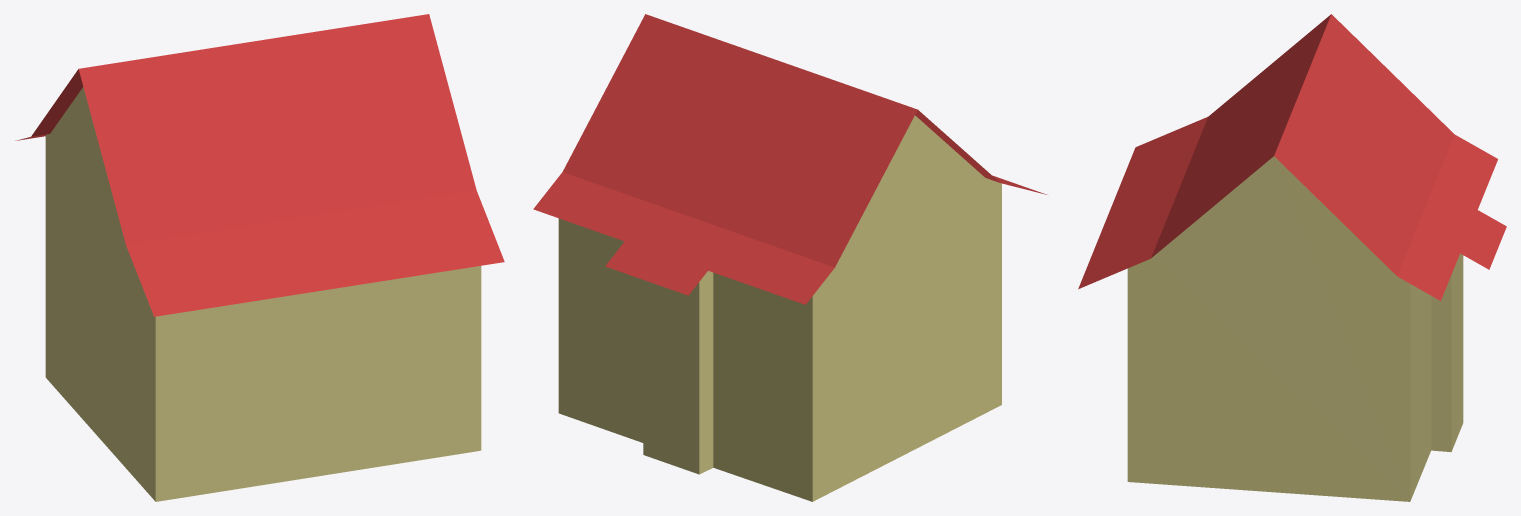
3 renders of one model, left to right at view 1: azimuth 30°, elevation 25°; view 2: azimuth 150°, elevation 25°; view 3: azimuth 270°, elevation 25°, orthographic. The views are drawn at different scales.
Size of the model in its own units: 16.65 by 17.93 by 15.61.
